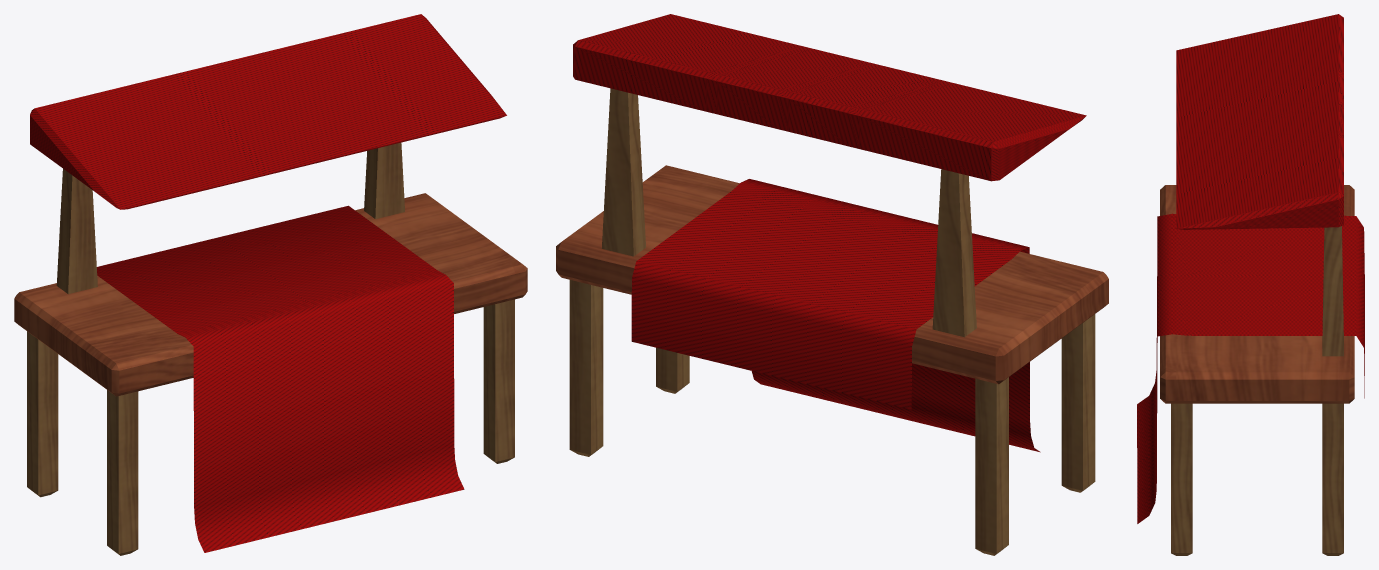
File: stall.glb
3 renders of one model, left to right at view 1: azimuth 30°, elevation 25°; view 2: azimuth 150°, elevation 25°; view 3: azimuth 270°, elevation 25°, orthographic. The views are drawn at different scales.
Visible parts, largest first — view 1: Cube; view 2: Cube; view 3: Cube.
Part boxes in pixels (left/top/right/bottom): Cube: left=14, top=14, right=527, bottom=555; Cube: left=556, top=14, right=1108, bottom=555; Cube: left=1137, top=14, right=1364, bottom=555.
Size of the model in its own units: 5.25 by 4.64 by 2.63.
Materials: 2 (2 with a texture image).
